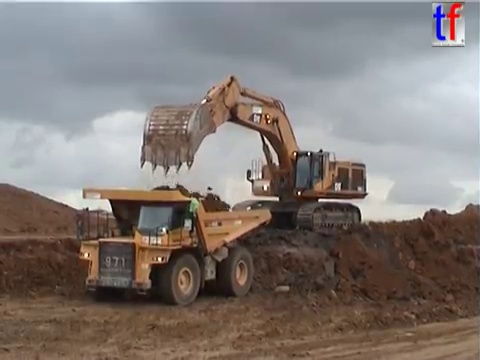excavator: (137, 72, 371, 237)
truck: (74, 184, 273, 306)
worker: (186, 190, 203, 236)
